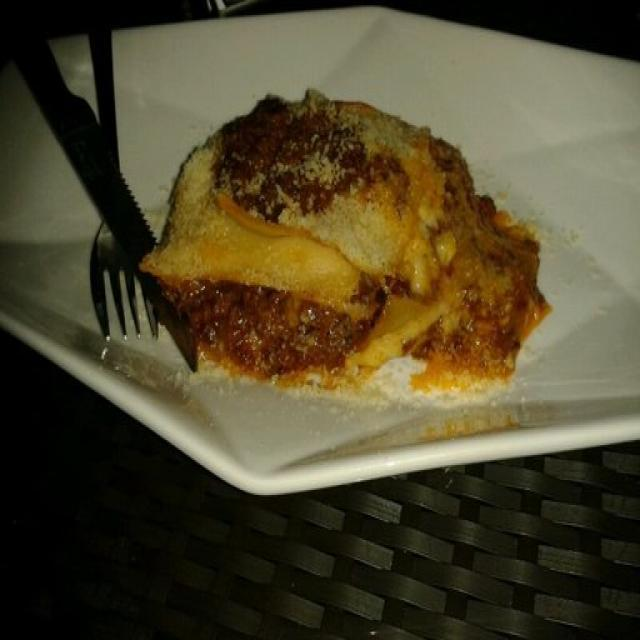Lasagna: (146, 82, 594, 464)
